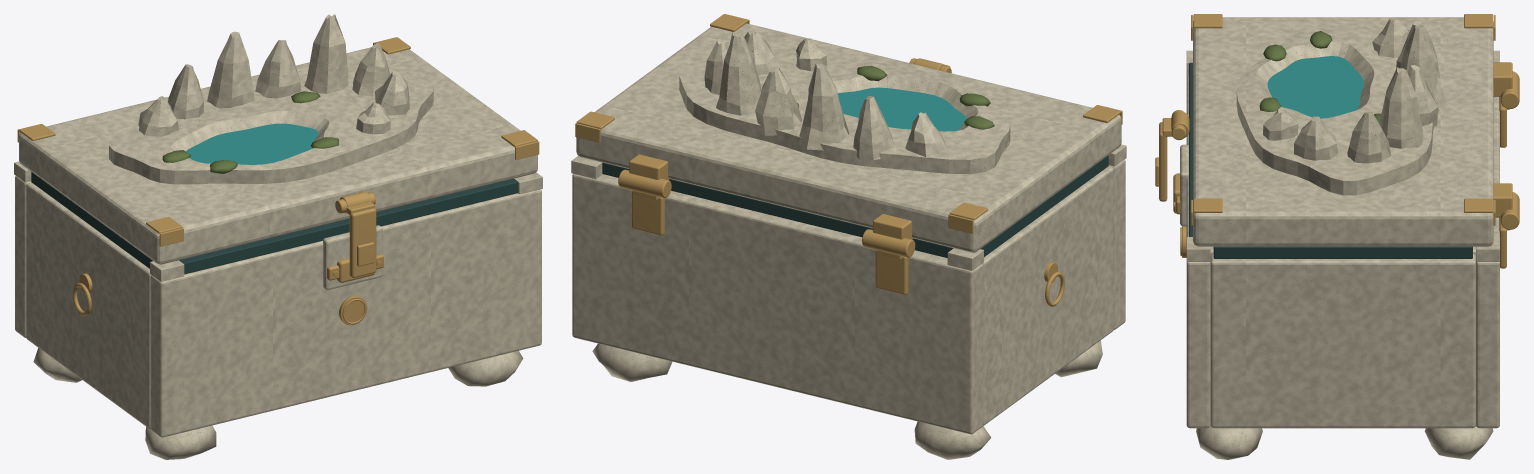
Rendered from nauru.glb.
3 renders of one model, left to right at view 1: azimuth 30°, elevation 25°; view 2: azimuth 150°, elevation 25°; view 3: azimuth 270°, elevation 25°, orthographic. The views are drawn at different scales.
Visible parts, largest first — view 1: Limestone / front, Lid / polished slab, Limestone / side, Terrain / basin terrace, Mineral seam / long, Terrain / inland lagoon, Pinnacle / 5, Pinnacle / 3, Limestone / rear, Pinnacle / 4, Limestone foot, Limestone foot.002 (+11 smaller); view 2: Limestone / rear, Lid / polished slab, Limestone / side, Terrain / basin terrace, Terrain / inland lagoon, Mineral seam / long.001, Pinnacle / 3, Pinnacle / 5, Limestone / front, Pinnacle / 4, Limestone foot.001, Limestone foot.003 (+15 smaller); view 3: Limestone / side.001, Lid / polished slab, Terrain / basin terrace, Limestone / rear, Terrain / inland lagoon, Limestone / front, Mineral seam / side.001, Pinnacle / 5, Limestone foot.002, Limestone foot.003, Pinnacle / 6, Pinnacle / 3 (+17 smaller).
Part boxes in pixels (left/top/right/bottom): Limestone / front: left=150, top=189, right=541, bottom=437; Lid / polished slab: left=19, top=47, right=537, bottom=264; Limestone / side: left=26, top=182, right=151, bottom=429; Terrain / basin terrace: left=109, top=70, right=433, bottom=184; Mineral seam / long: left=179, top=178, right=518, bottom=274; Terrain / inland lagoon: left=186, top=123, right=318, bottom=164; Pinnacle / 5: left=304, top=14, right=348, bottom=93; Pinnacle / 3: left=207, top=31, right=254, bottom=108; Limestone / rear: left=15, top=176, right=31, bottom=337; Pinnacle / 4: left=255, top=40, right=301, bottom=98; Limestone foot: left=145, top=425, right=216, bottom=459; Limestone foot.002: left=448, top=350, right=523, bottom=386; Limestone / rear: left=572, top=173, right=982, bottom=434; Lid / polished slab: left=576, top=23, right=1121, bottom=252; Limestone / side: left=982, top=166, right=1113, bottom=425; Terrain / basin terrace: left=679, top=51, right=1010, bottom=174; Terrain / inland lagoon: left=838, top=87, right=966, bottom=131; Mineral seam / long.001: left=602, top=162, right=953, bottom=257; Pinnacle / 3: left=797, top=64, right=848, bottom=150; Pinnacle / 5: left=716, top=32, right=761, bottom=115; Limestone / front: left=1108, top=159, right=1125, bottom=329; Pinnacle / 4: left=755, top=66, right=802, bottom=135; Limestone foot.001: left=914, top=421, right=991, bottom=459; Limestone foot.003: left=592, top=343, right=672, bottom=381; Limestone / side.001: left=1210, top=254, right=1475, bottom=428; Lid / polished slab: left=1193, top=17, right=1493, bottom=246; Terrain / basin terrace: left=1236, top=21, right=1439, bottom=195; Limestone / rear: left=1476, top=96, right=1499, bottom=428; Terrain / inland lagoon: left=1267, top=56, right=1363, bottom=118; Limestone / front: left=1186, top=75, right=1210, bottom=428; Mineral seam / side.001: left=1213, top=246, right=1472, bottom=258; Pinnacle / 5: left=1379, top=67, right=1423, bottom=148; Limestone foot.002: left=1196, top=426, right=1262, bottom=459; Limestone foot.003: left=1424, top=426, right=1493, bottom=459; Pinnacle / 6: left=1347, top=112, right=1390, bottom=163; Pinnacle / 3: left=1400, top=24, right=1446, bottom=108.
Size of the model in its own units: 3.79 by 3.06 by 2.88.
Materials: 5 (1 with a texture image).
